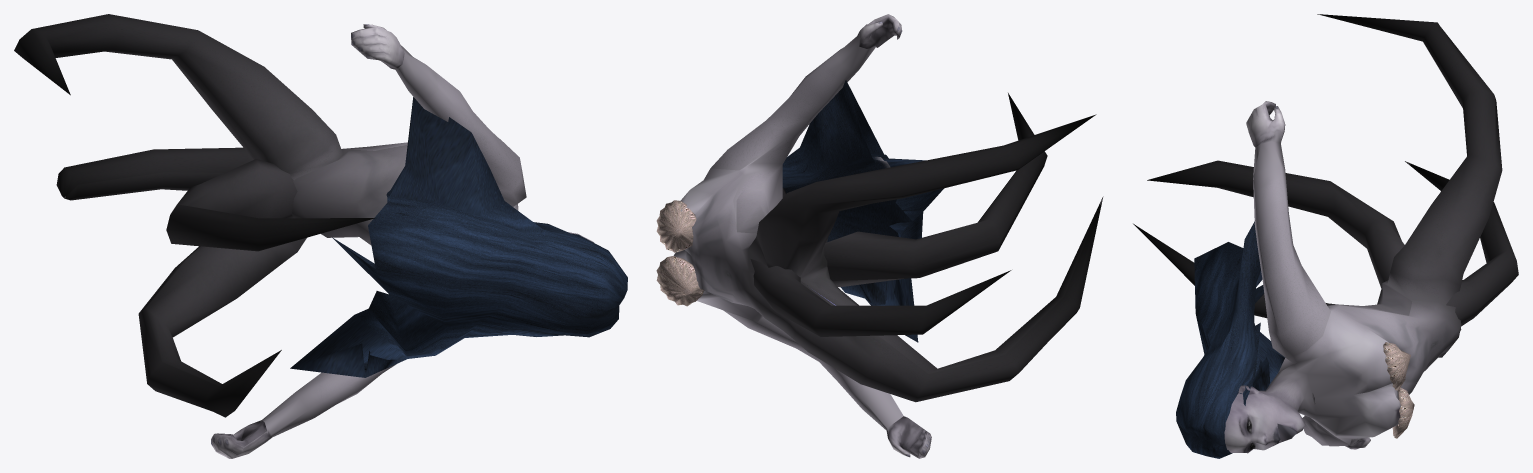
Rendered from simhika_000425.obj.
The picture shows the model from 3 angles, left to right: view 1: azimuth 30°, elevation 25°; view 2: azimuth 150°, elevation 25°; view 3: azimuth 270°, elevation 25°; orthographic projection. The views are drawn at different scales.
Parts seen in each view (by area): view 1: simhika_omino; view 2: simhika_omino, oysterR_Sphere, oysterL_Sphere.002; view 3: simhika_omino, oysterL_Sphere.002, oysterR_Sphere.
Part boxes in pixels (left/top/right/bottom): simhika_omino: left=14, top=14, right=627, bottom=458; simhika_omino: left=673, top=14, right=1103, bottom=458; oysterR_Sphere: left=656, top=256, right=704, bottom=306; oysterL_Sphere.002: left=656, top=200, right=696, bottom=252; simhika_omino: left=1133, top=14, right=1518, bottom=458; oysterL_Sphere.002: left=1383, top=342, right=1410, bottom=390; oysterR_Sphere: left=1392, top=387, right=1414, bottom=438.
Bounding box in the file's own units: 10.79 × 9.26 × 8.58.
